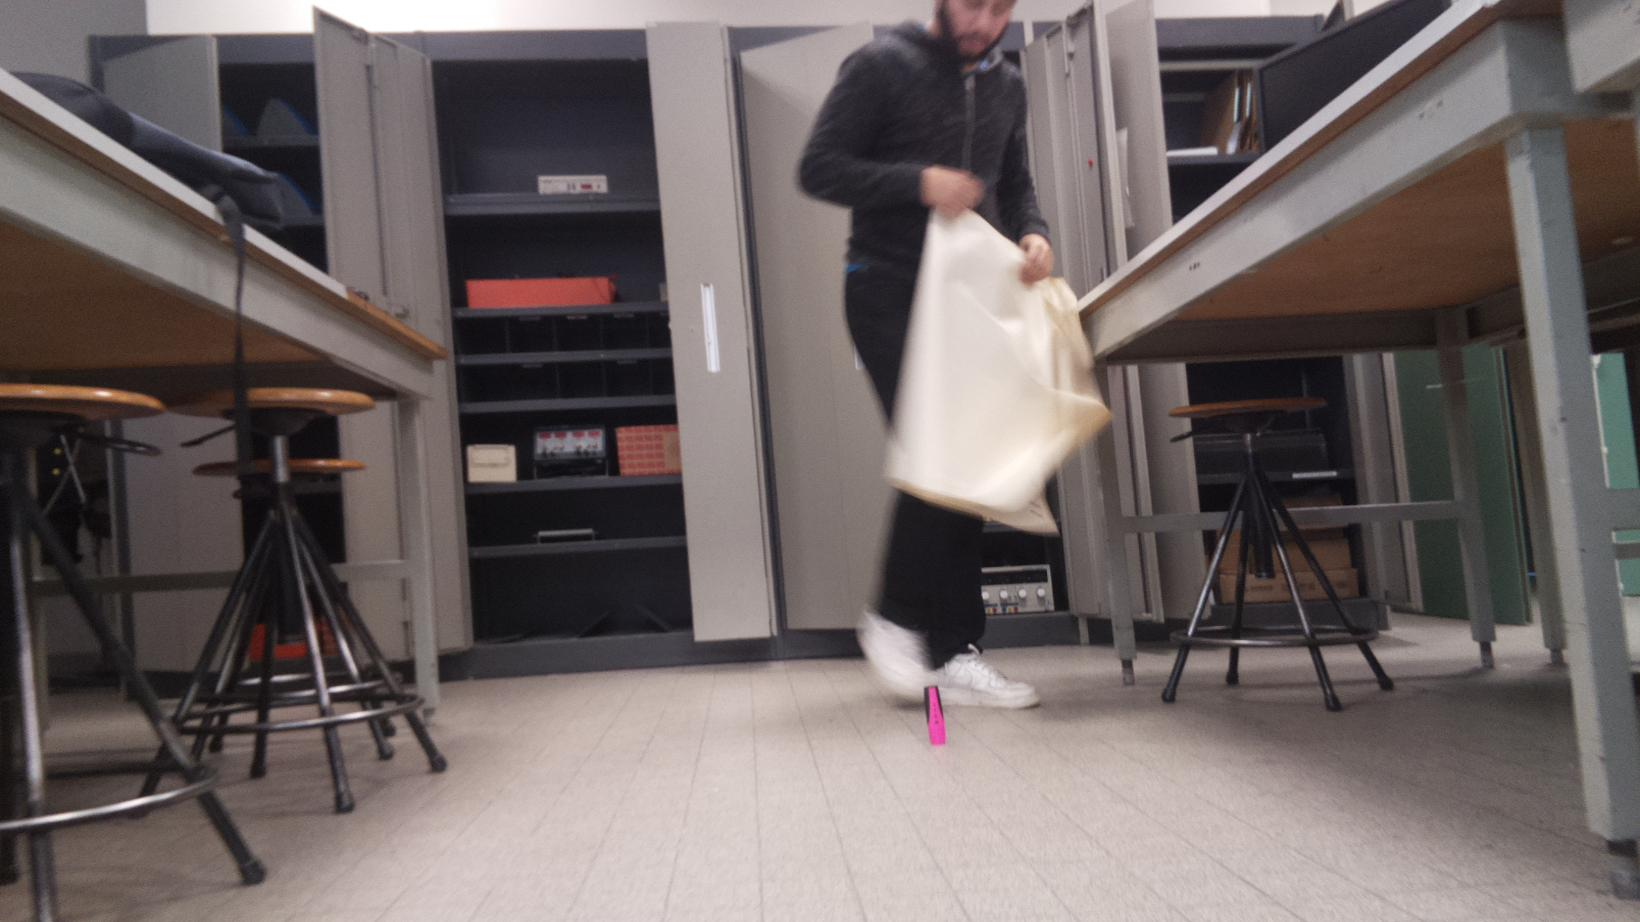small: (922, 684, 950, 748)
